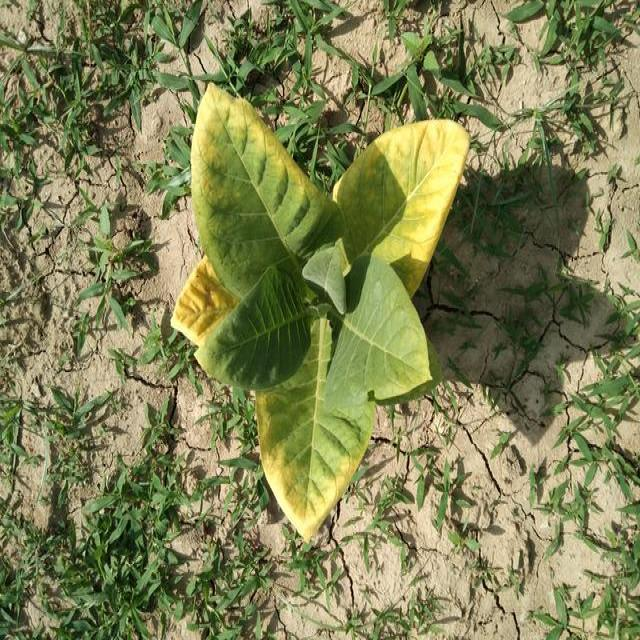crop: (175, 78, 467, 536)
